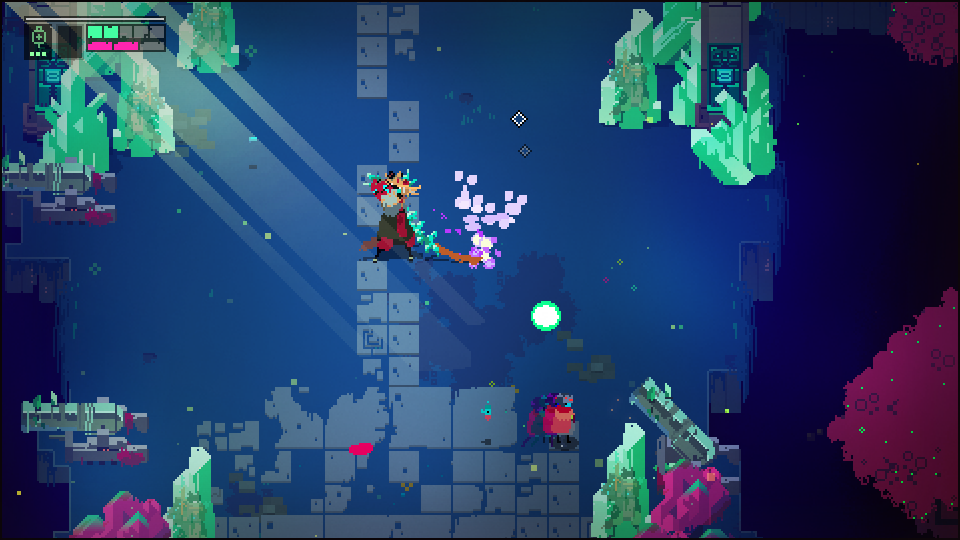hanged_man: (352, 170, 456, 268)
hanged_shot: (528, 299, 563, 337)
player: (550, 385, 578, 453)
